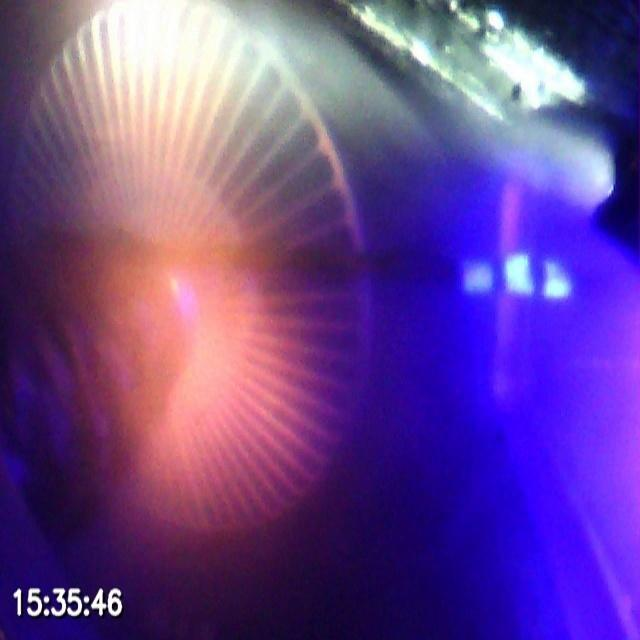white-dots: (463, 250, 574, 302)
